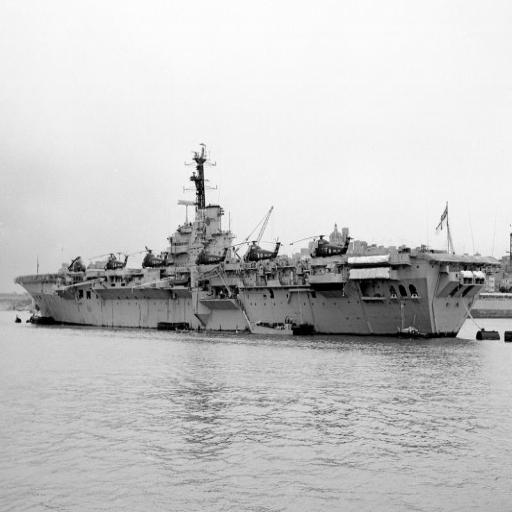Portanaves: (12, 135, 495, 342)
